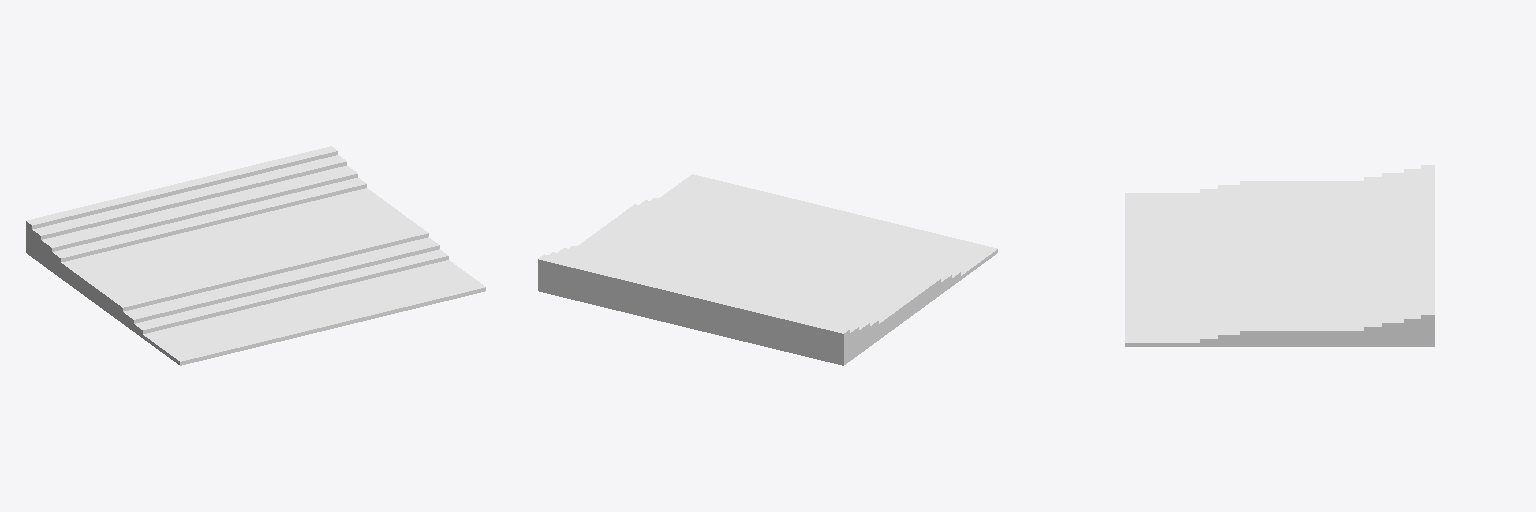
File: gameshowStage.obj
3 views of the same model, side by side, from view 1: azimuth 30°, elevation 25°; view 2: azimuth 150°, elevation 25°; view 3: azimuth 270°, elevation 25° (orthographic).
Parts seen in each view (by area): view 1: object 1; view 2: object 1; view 3: object 1.
Boxes of the visible parts, x1=… form: object 1: x1=26, y1=146, x2=485, y2=365; object 1: x1=538, y1=174, x2=997, y2=365; object 1: x1=1125, y1=165, x2=1434, y2=346.
Size of the model in its own units: 8 by 0.8 by 7.